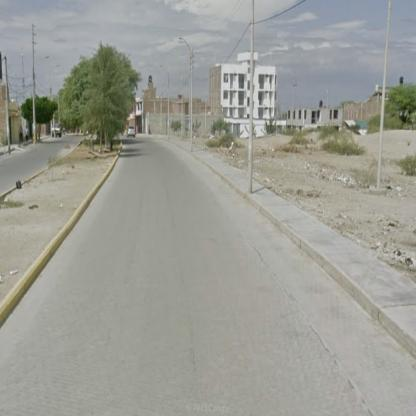Peaton: (25, 126, 30, 144), (21, 127, 24, 146)
Pista: (1, 134, 370, 414), (1, 135, 84, 195)
Vehiculo: (52, 125, 63, 139), (127, 126, 136, 139)
